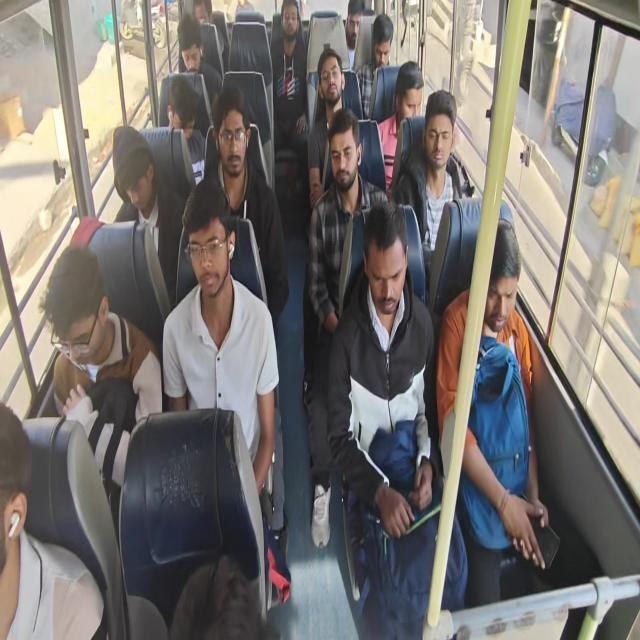person: (39, 248, 113, 372), (0, 402, 38, 597), (474, 224, 524, 340), (111, 124, 162, 223), (359, 219, 401, 318), (188, 204, 230, 294), (323, 124, 367, 208), (211, 109, 255, 183), (421, 94, 452, 180), (396, 68, 425, 129), (166, 88, 197, 140), (172, 30, 205, 76), (319, 59, 346, 111), (373, 18, 389, 74), (279, 8, 301, 48), (346, 3, 366, 46), (192, 0, 212, 30)
